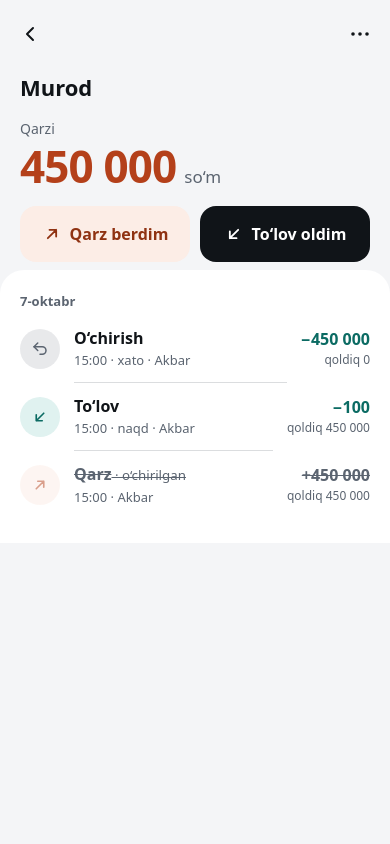
Test: CustomerDetail › keyingi to‘lovi bor nasiyani o‘chirishda aniq xabar
What coordinates should you click on to do the following:
click the button "To‘lov 15:00 · naqd · Akbar −100 qoldiq 450 000"
I would click on:
 (195, 417)
Its box is [0,383,389,451].
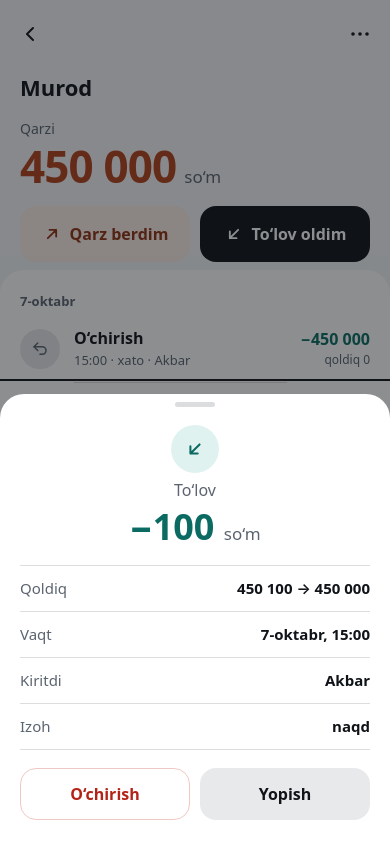
What coordinates should you click on to do the following:
click the button with aria-label "O‘chirish To‘lov"
I would click on:
 (105, 794)
Its box is [20,768,190,820].
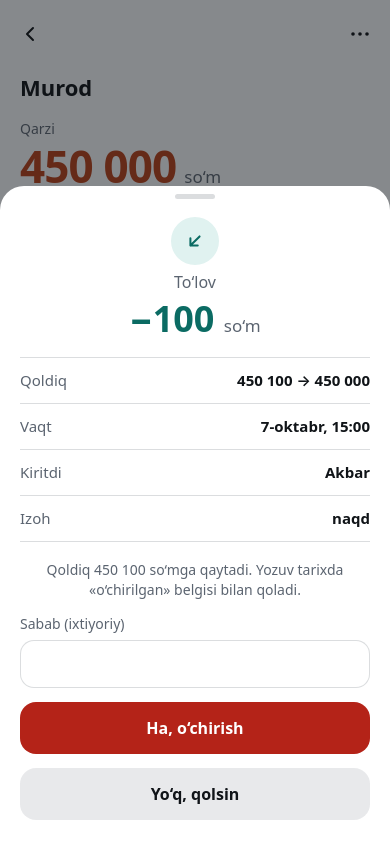
What coordinates should you click on to do the following:
click the button "Ha, o‘chirish"
I would click on:
 (195, 728)
Its box is [20,702,370,754].
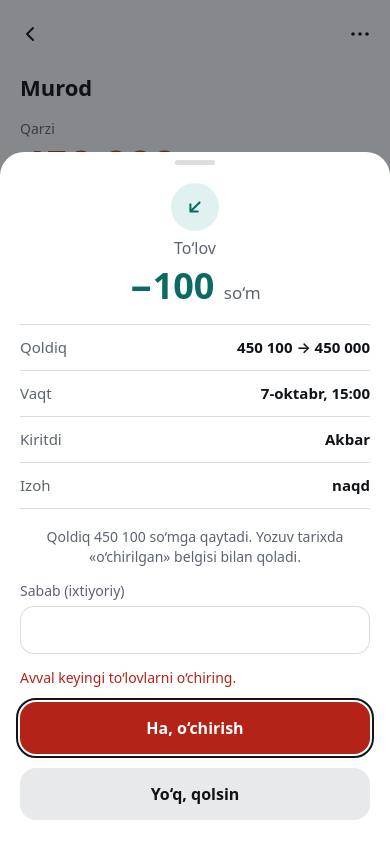
Expected: the text "Avval keyingi to‘lovlarni o‘chiring." is shown, [20,668,236,687]
